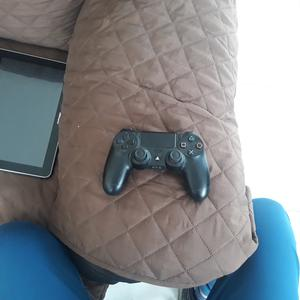controller: (103, 129, 209, 201)
